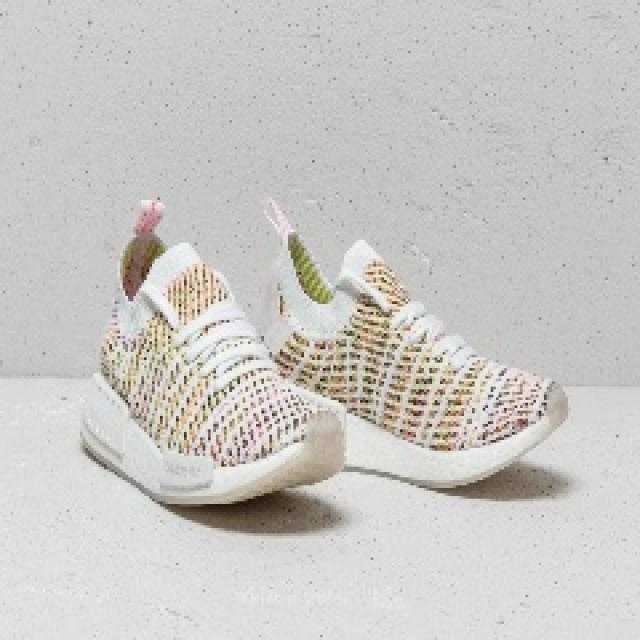shoes: (249, 190, 582, 498), (82, 201, 343, 508)
